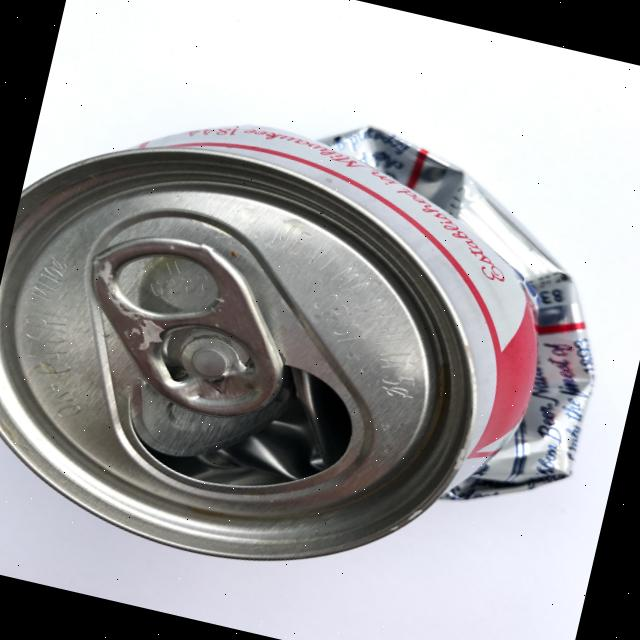metal: (0, 52, 638, 635)
